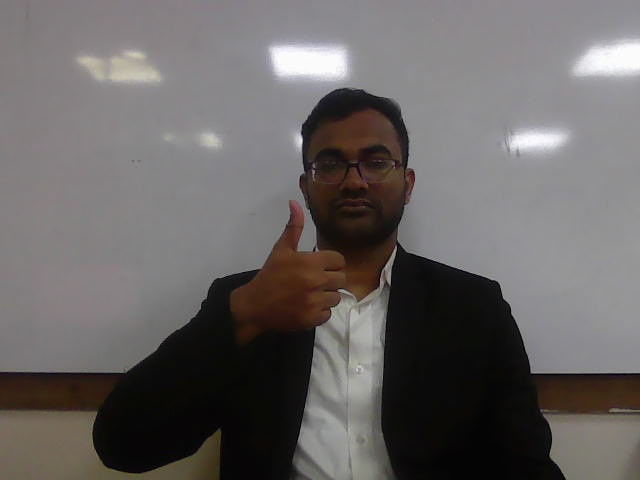Bhalo: (251, 199, 347, 334)
